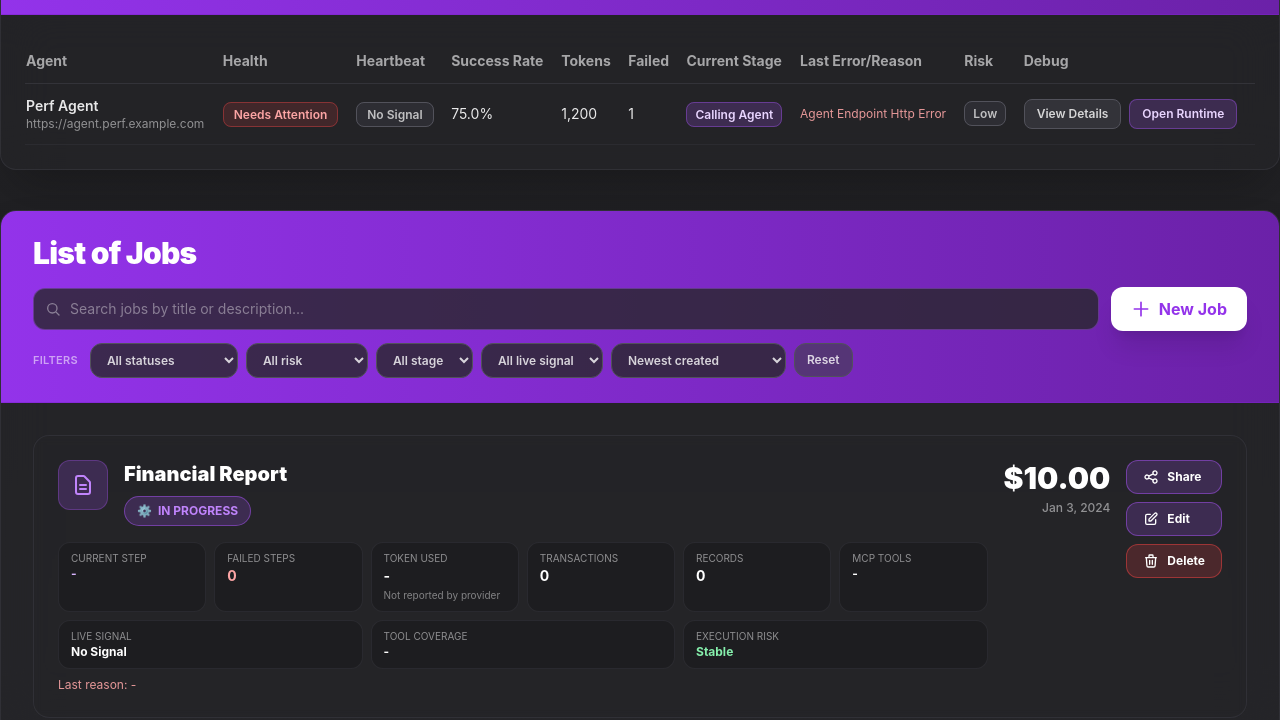
Scenario: BusinessDashboard › filters jobs by status
(page scrolled)
Select "Completed" in the dropdown showing "All statuses": (164, 360) [90,342,238,378]
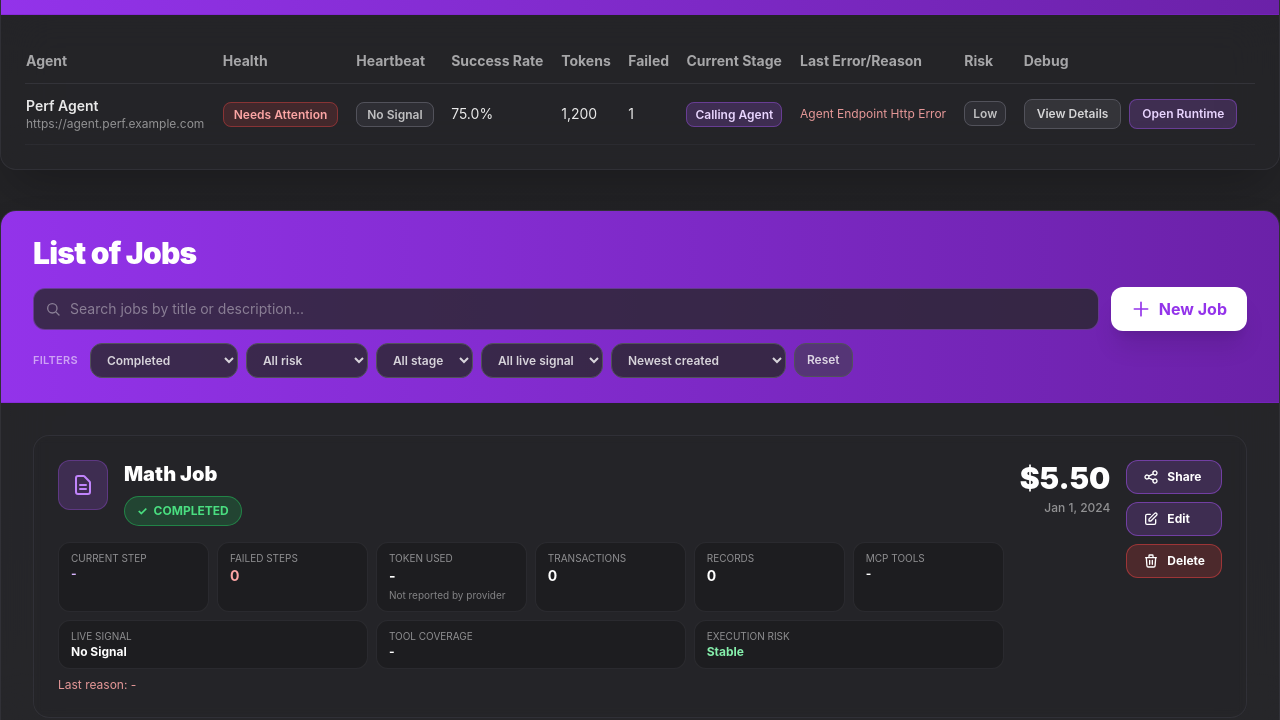
Expected: the heading "Math Job" is shown, [124,462,217,486]
Expected: the link "Financial Report" is gone
